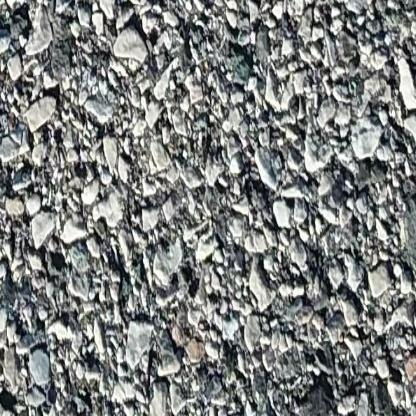Cracks: (0, 0, 19, 186)
